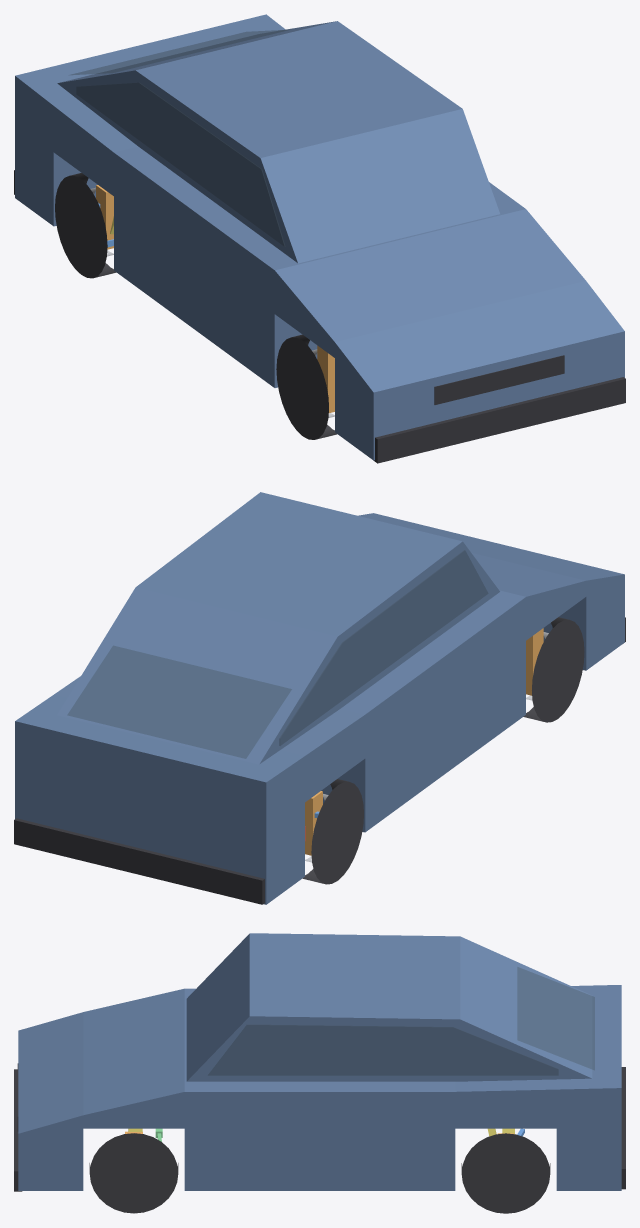
Rendered from hyundai-i30-placeholder.glb.
3 views of the same model, one above another, from view 1: azimuth 30°, elevation 25°; view 2: azimuth 150°, elevation 25°; view 3: azimuth 270°, elevation 25° (orthographic). The views are drawn at different scales.
Visible parts, largest first — view 1: Body, windows, bumpers, wheel_RR, wheel_FR, susp_upright_FR; view 2: Body, windows, bumpers, wheel_RR, wheel_FR, susp_upright_FR, susp_upright_RR; view 3: Body, windows, wheel_RL, wheel_FL, bumpers.
Part boxes in pixels (left/top/right/bottom): Body: left=15, top=14, right=624, bottom=460; windows: left=71, top=30, right=287, bottom=246; bumpers: left=14, top=170, right=625, bottom=463; wheel_RR: left=55, top=173, right=116, bottom=278; wheel_FR: left=276, top=334, right=336, bottom=439; susp_upright_FR: left=317, top=345, right=334, bottom=412; Body: left=15, top=492, right=624, bottom=904; windows: left=67, top=550, right=488, bottom=758; bumpers: left=14, top=617, right=625, bottom=904; wheel_RR: left=302, top=779, right=363, bottom=884; wheel_FR: left=523, top=617, right=584, bottom=722; susp_upright_FR: left=526, top=628, right=543, bottom=695; susp_upright_RR: left=305, top=791, right=322, bottom=855; Body: left=18, top=933, right=621, bottom=1190; windows: left=208, top=967, right=594, bottom=1075; wheel_RL: left=461, top=1133, right=550, bottom=1213; wheel_FL: left=89, top=1133, right=178, bottom=1213; bumpers: left=14, top=1063, right=625, bottom=1191.
Size of the model in its own units: 1.78 by 1.47 by 4.36.
